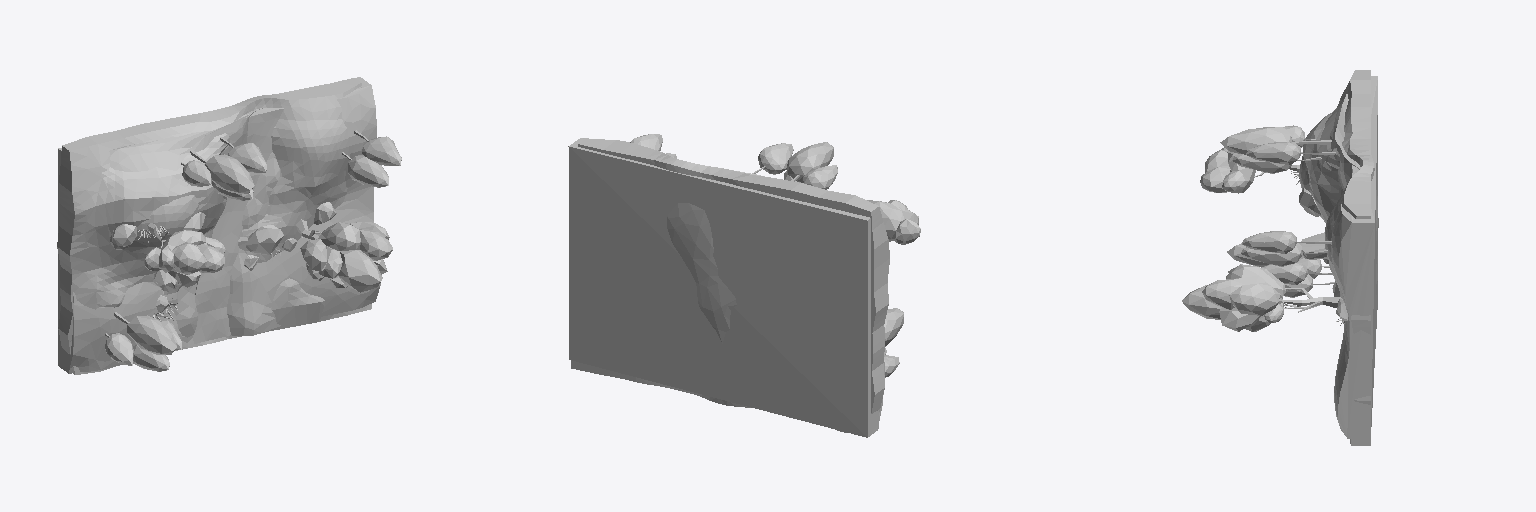
Rendered from nature.obj.
3 renders of one model, left to right at view 1: azimuth 30°, elevation 25°; view 2: azimuth 150°, elevation 25°; view 3: azimuth 270°, elevation 25°, orthographic.
Visible parts, largest first — view 1: AssimpScene; view 2: AssimpScene; view 3: AssimpScene.
Part boxes in pixels (left/top/right/bottom): AssimpScene: left=57, top=77, right=401, bottom=374; AssimpScene: left=568, top=134, right=920, bottom=437; AssimpScene: left=1182, top=70, right=1378, bottom=445.
Size of the model in its own units: 14.23 by 10.27 by 7.9.